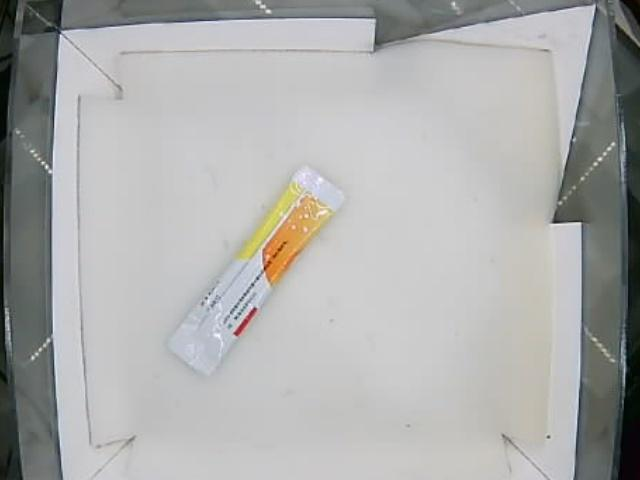Medicine: (165, 163, 347, 381)
